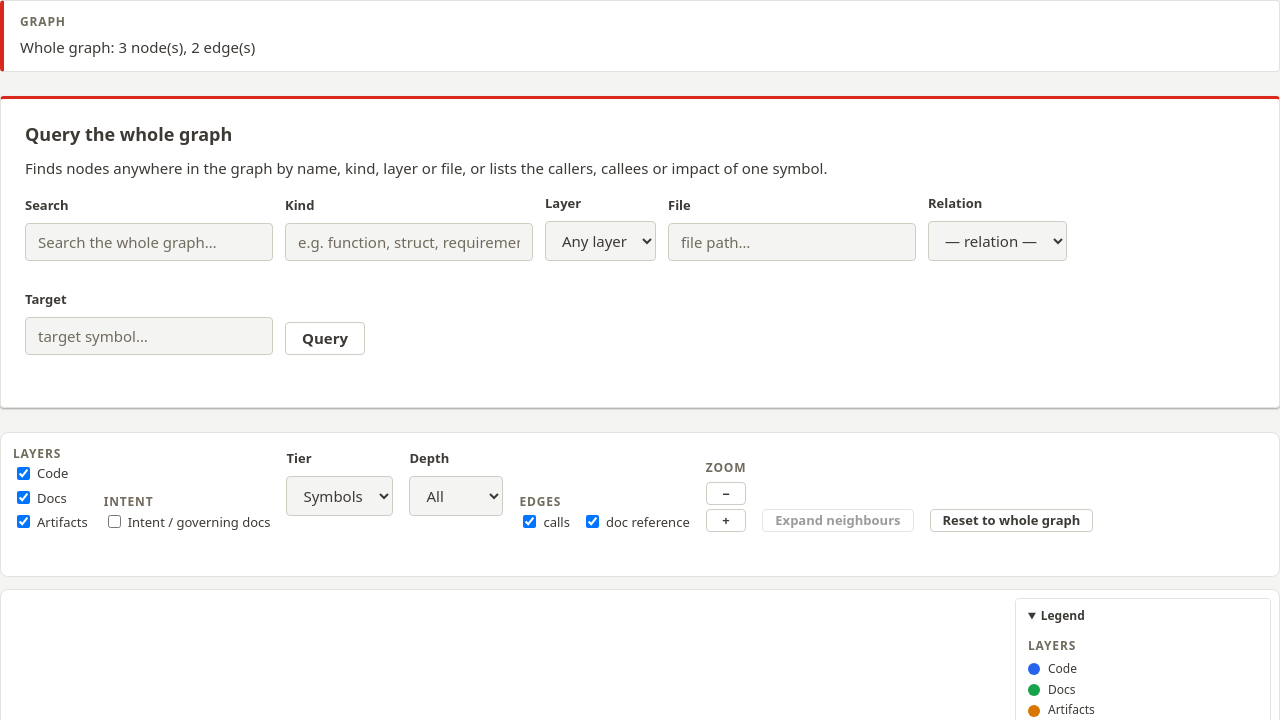
Scenario: GraphView migration (S-186, FR-UI-08 / FR-UI-21) › runs a whole-graph query and lists the ranked hit
Type "alpha" into the field labelled "Search" at (149, 242), box [25,223,273,261]
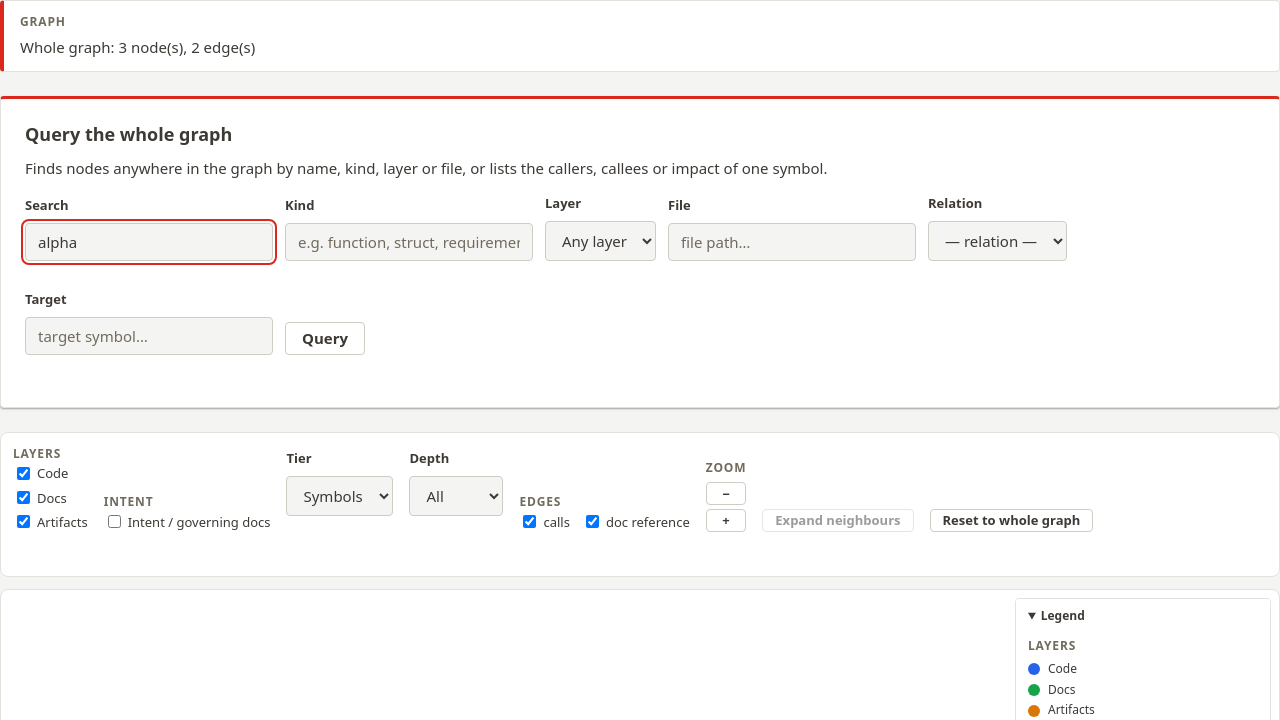
Click the button "Query" at (325, 338), box [285,322,365,355]
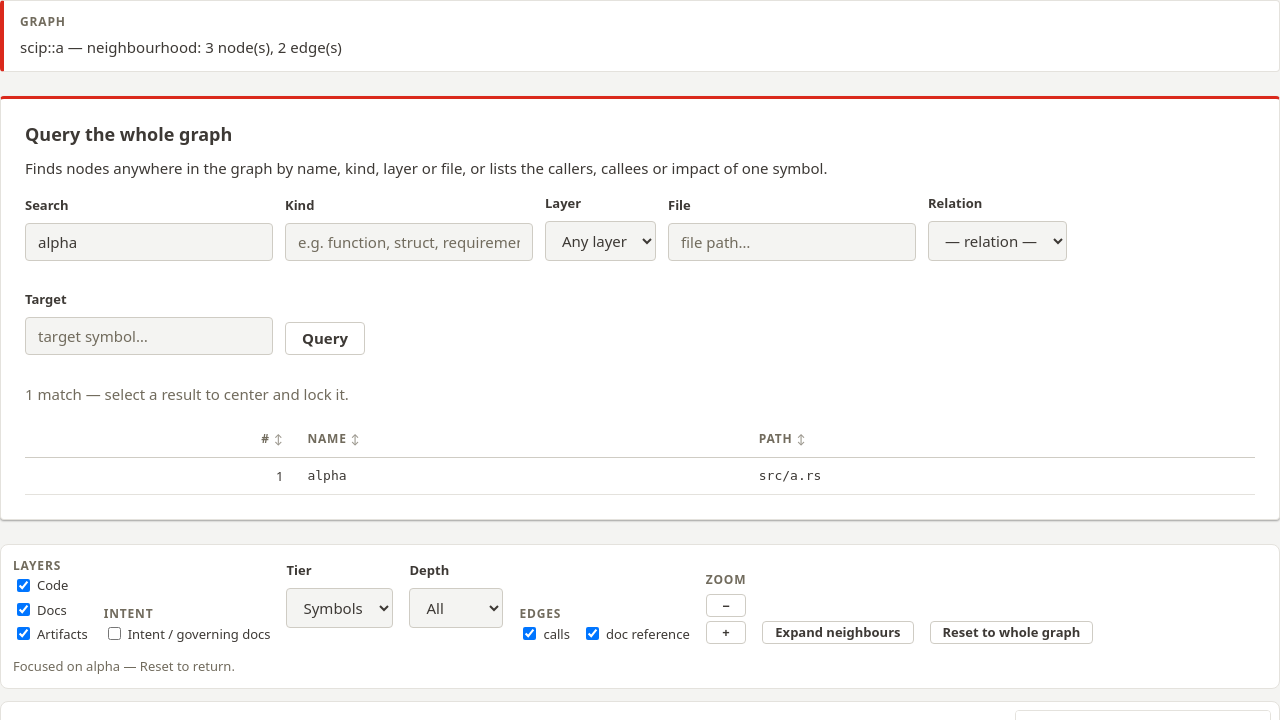
Result: the text "1 match — select a result to center and lock it." is shown at [25,384,349,404]
Result: the button "alpha" is shown at [307,468,346,483]
